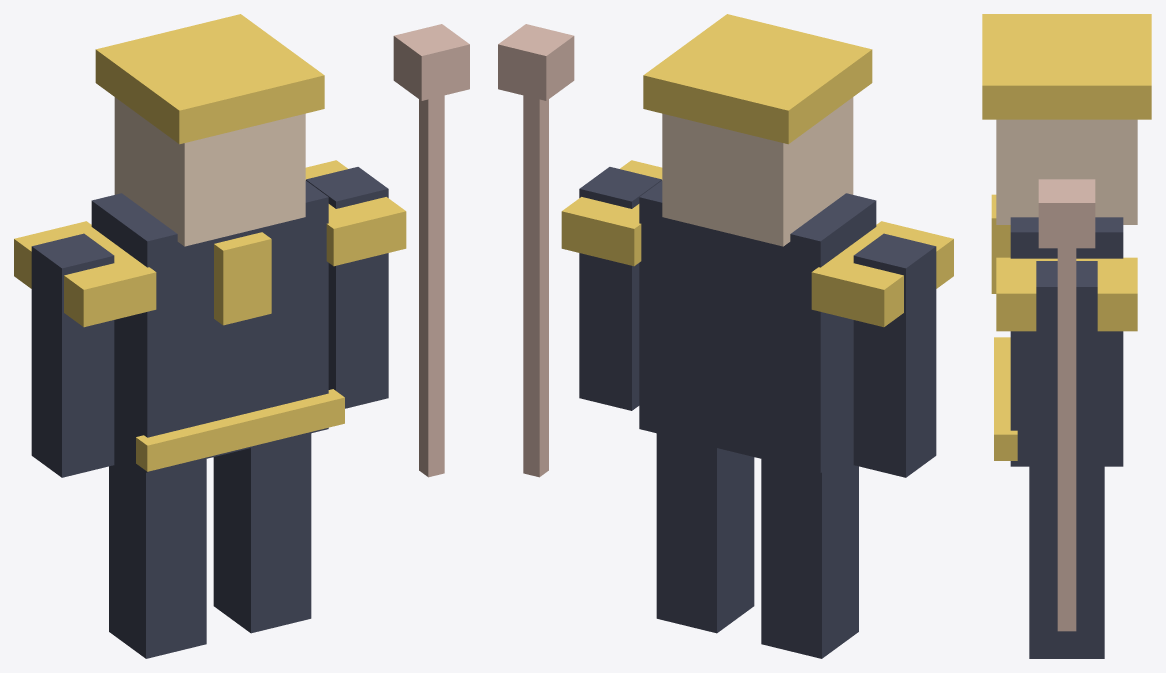
Rendered from 11_astra_emberkin_courier_near_hidden.glb.
3 views of the same model, side by side, from view 1: azimuth 30°, elevation 25°; view 2: azimuth 150°, elevation 25°; view 3: azimuth 270°, elevation 25° (orthographic).
Parts seen in each view (by area): view 1: Astra Emberkin, Courier near Hidden; view 2: Astra Emberkin, Courier near Hidden; view 3: Astra Emberkin, Courier near Hidden.
Boxes of the visible parts, x1,y1,x2,y2 form: Astra Emberkin, Courier near Hidden: (14, 14, 469, 658); Astra Emberkin, Courier near Hidden: (498, 14, 953, 658); Astra Emberkin, Courier near Hidden: (982, 14, 1151, 658).
Size of the model in its own units: 1.07 by 1.41 by 0.3802.
